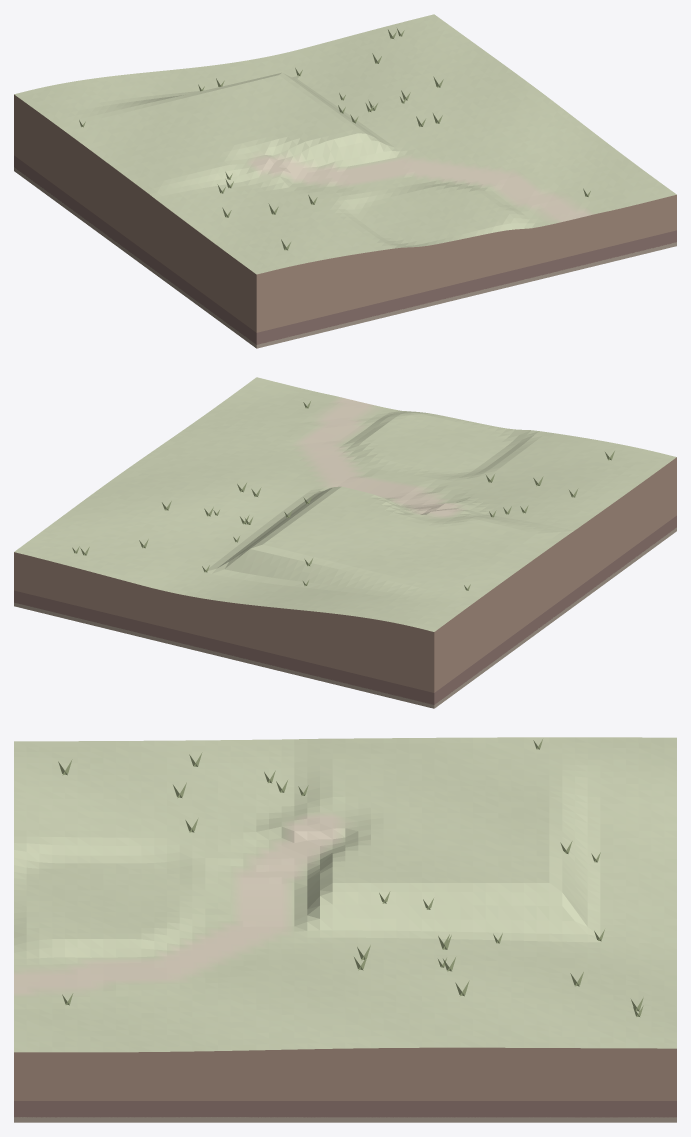
3 views of the same model, one above another, from view 1: azimuth 30°, elevation 25°; view 2: azimuth 150°, elevation 25°; view 3: azimuth 270°, elevation 25° (orthographic). The views are drawn at different scales.
Visible parts, largest first — view 1: proc_ground, proc_skirt, proc_grass; view 2: proc_ground, proc_skirt, proc_grass; view 3: proc_ground, proc_skirt, proc_grass.
Part boxes in pixels (<box>): proc_ground: <box>14,14,676,274</box>; proc_skirt: <box>14,94,676,348</box>; proc_grass: <box>79,28,590,250</box>; proc_ground: <box>14,377,676,631</box>; proc_skirt: <box>14,457,676,708</box>; proc_grass: <box>72,401,614,590</box>; proc_ground: <box>14,737,676,1052</box>; proc_skirt: <box>14,1047,676,1122</box>; proc_grass: <box>58,739,643,1016</box>.
Size of the model in its own units: 8 by 1.53 by 8.
